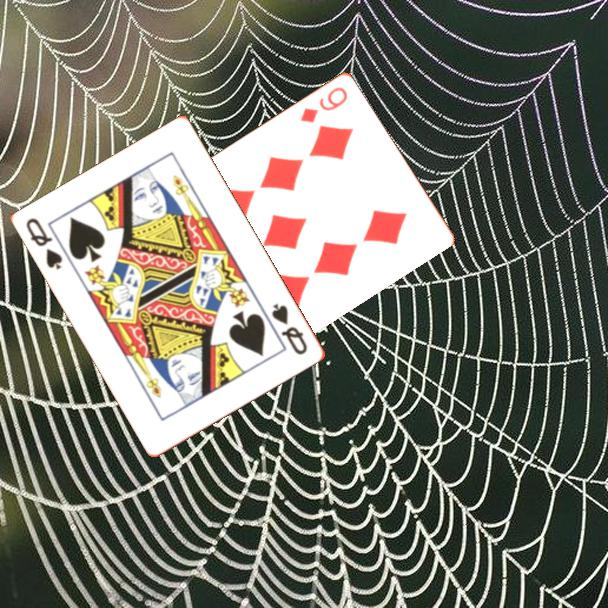d09: (297, 82, 351, 126)
s12: (23, 214, 66, 273), (268, 300, 311, 358)
